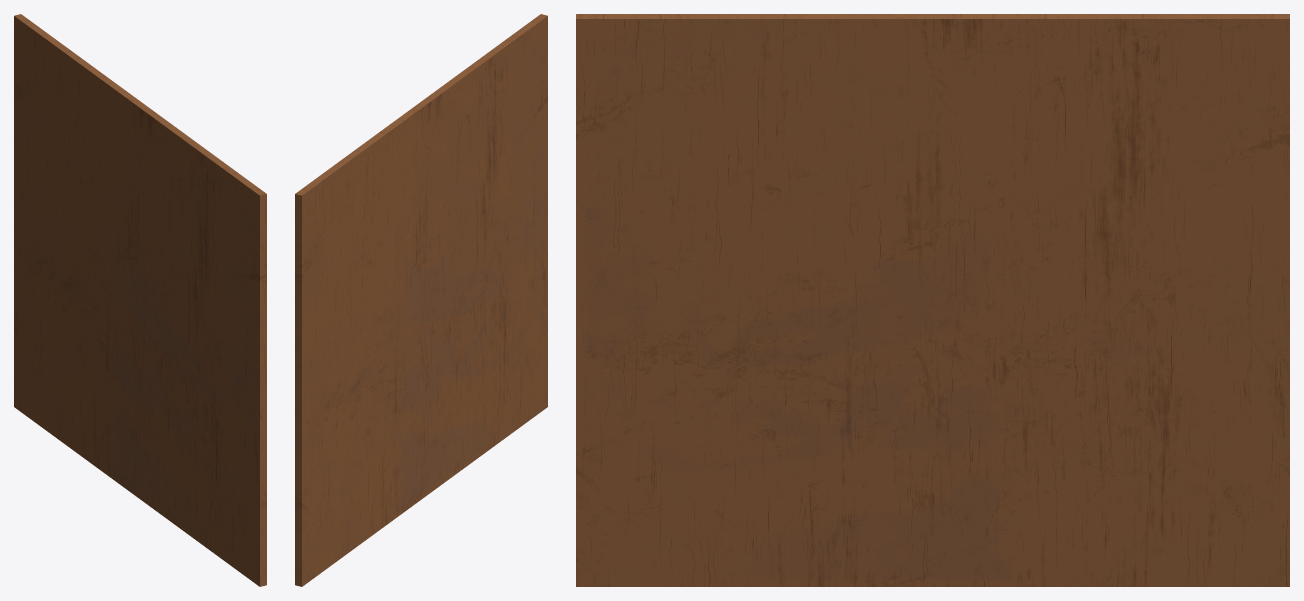
The model's file is Door_RoomWayang_1A.fbx.
3 renders of one model, left to right at view 1: azimuth 30°, elevation 25°; view 2: azimuth 150°, elevation 25°; view 3: azimuth 270°, elevation 25°, orthographic. The views are drawn at different scales.
Parts seen in each view (by area): view 1: Door_RoomWayang_1B, Door_RoomWayang_1A; view 2: Door_RoomWayang_1A, Door_RoomWayang_1B; view 3: Door_RoomWayang_1A, Door_RoomWayang_1B.
Part boxes in pixels (box(x1,y1,x2,y2)): Door_RoomWayang_1B: box(137, 104, 266, 586); Door_RoomWayang_1A: box(14, 14, 143, 496); Door_RoomWayang_1A: box(295, 104, 424, 586); Door_RoomWayang_1B: box(418, 14, 547, 496); Door_RoomWayang_1A: box(933, 14, 1289, 586); Door_RoomWayang_1B: box(576, 14, 932, 586).
Size of the model in its own units: 6 by 360 by 316.
2 materials, 2 textured.
